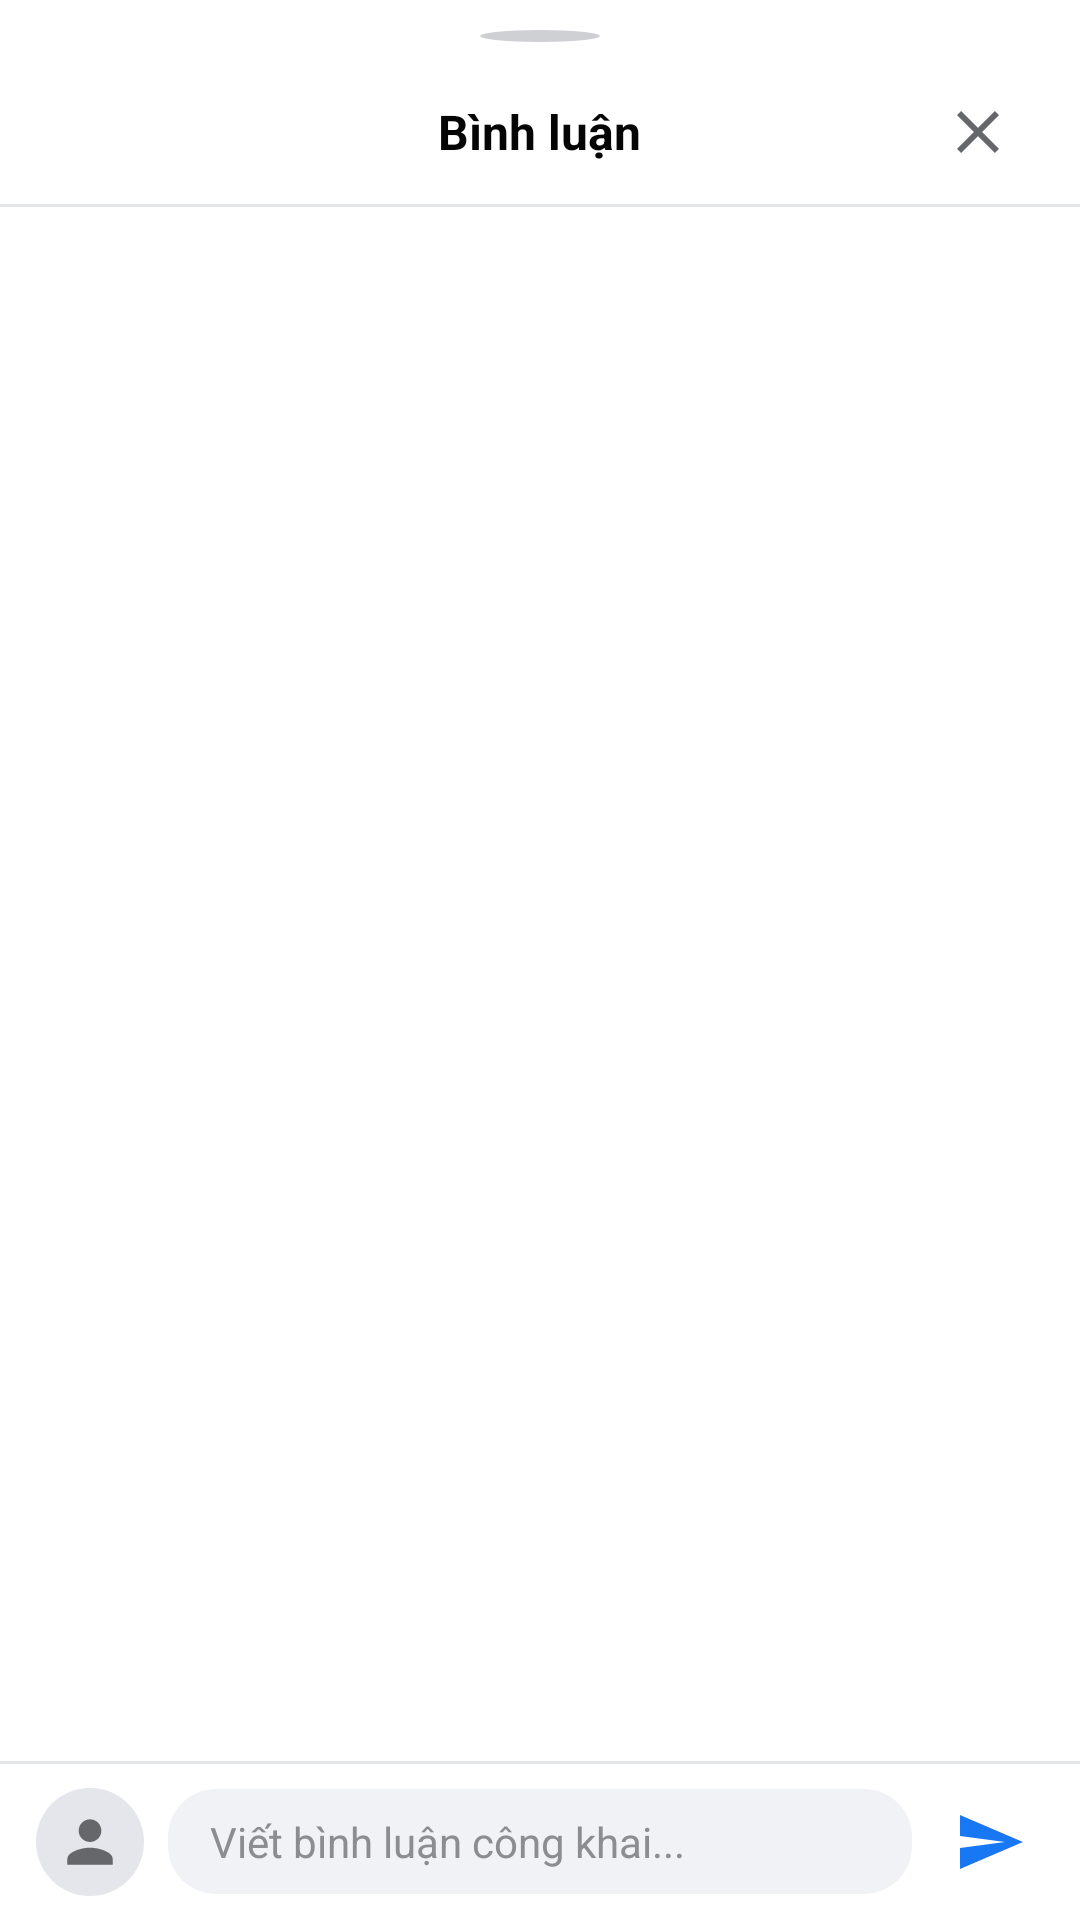

Where icons sit on this 1080 x 1920 app screen, as box(x1, y1, x2, y2):
Gửi bình luận: box(960, 1815, 1023, 1869)
Đóng bình luận: box(957, 111, 999, 153)
